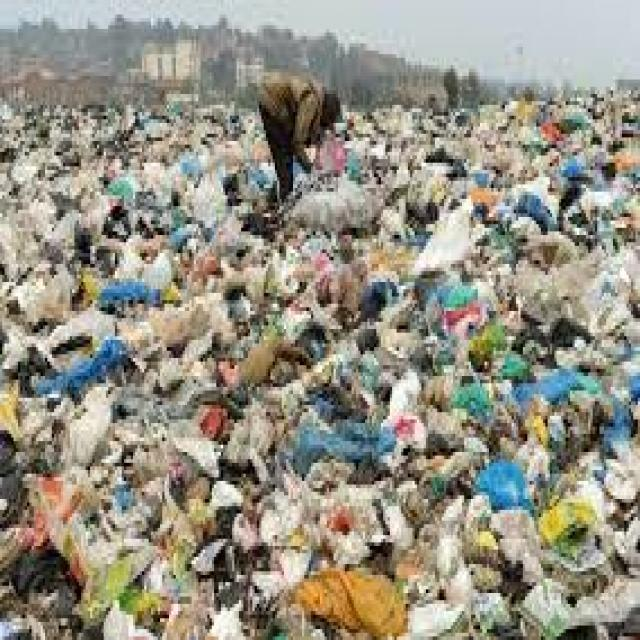heap: (23, 221, 640, 633)
